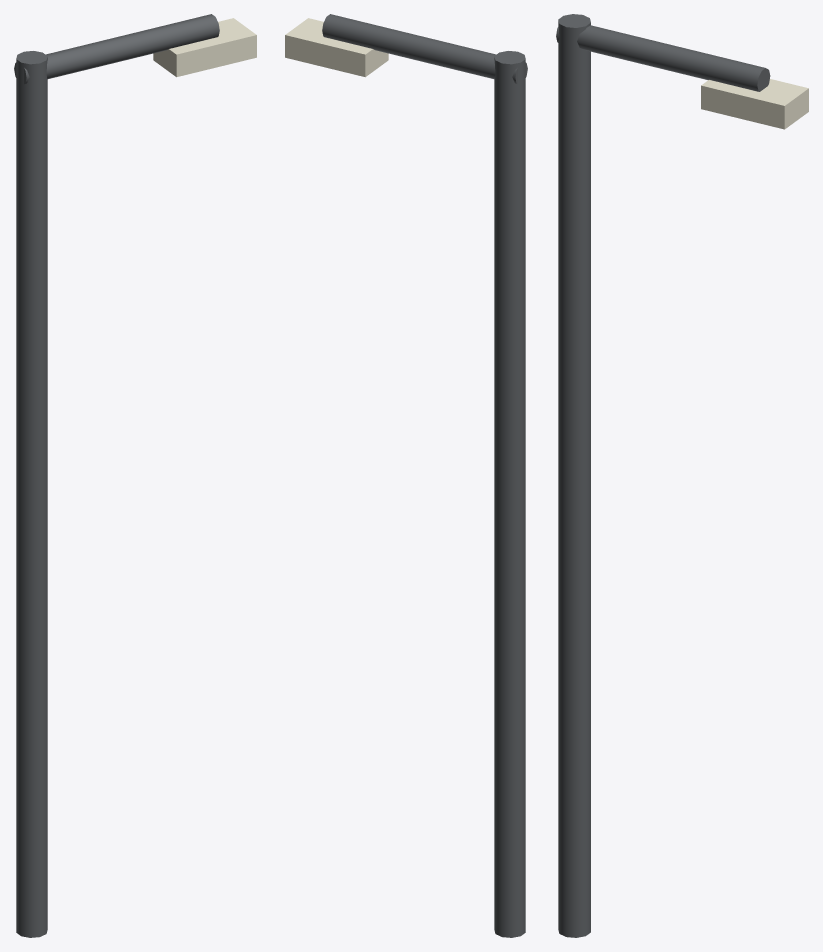
File: city_lamp.glb
3 renders of one model, left to right at view 1: azimuth 30°, elevation 25°; view 2: azimuth 150°, elevation 25°; view 3: azimuth 330°, elevation 25°, orthographic. The views are drawn at different scales.
Parts seen in each view (by area): view 1: LampPost, LampArm, LampHead; view 2: LampPost, LampArm, LampHead; view 3: LampPost, LampArm, LampHead.
Part boxes in pixels (x1,y1,x2,y2): LampPost: [16, 51, 47, 937]; LampArm: [14, 14, 219, 84]; LampHead: [153, 18, 256, 77]; LampPost: [494, 51, 525, 937]; LampArm: [322, 14, 527, 84]; LampHead: [285, 18, 388, 77]; LampPost: [558, 14, 590, 937]; LampArm: [556, 25, 770, 91]; LampHead: [701, 79, 808, 129].
Size of the model in its own units: 1.47 by 5.4 by 0.26.
